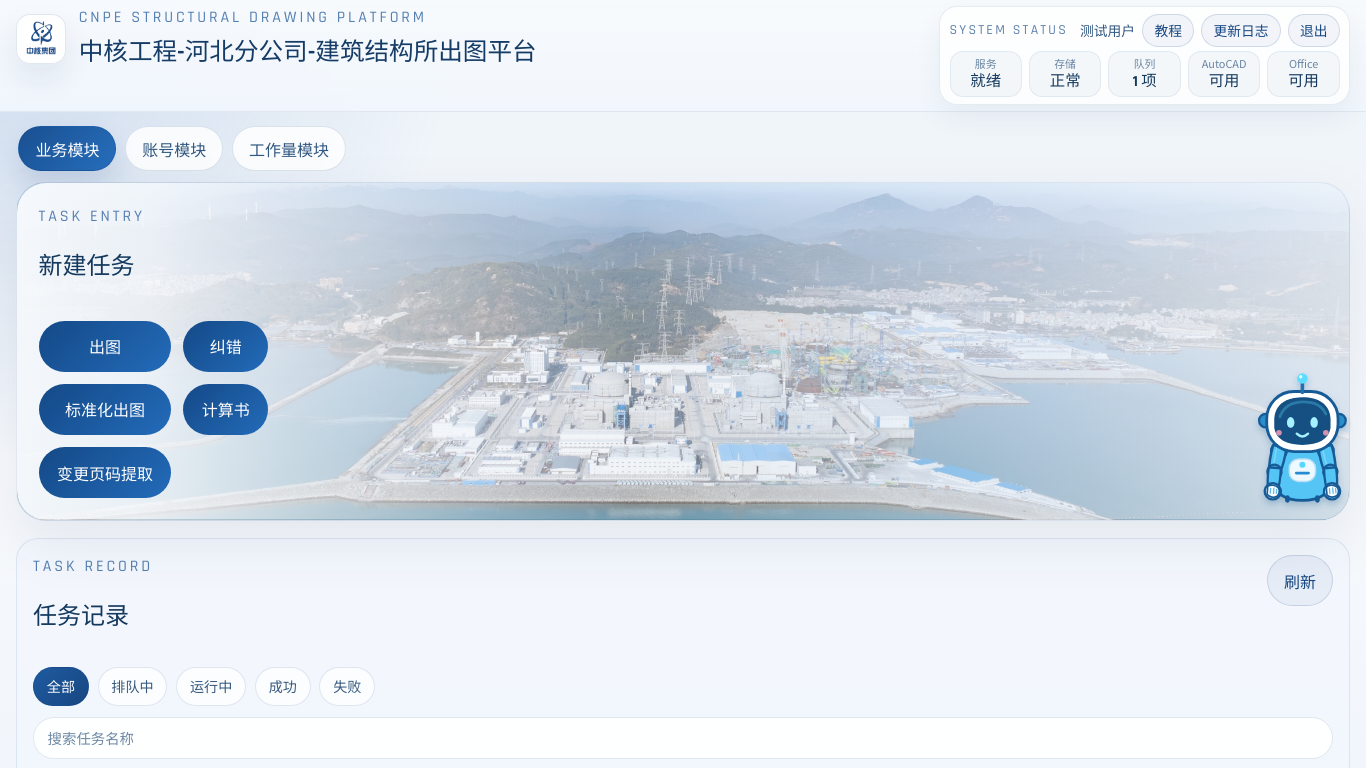
Test case: homepage shell › renders assistant Markdown while keeping user messages as literal text
Click the button named "打开 AI 助手": x=1302, y=437 [1248, 369, 1356, 505]
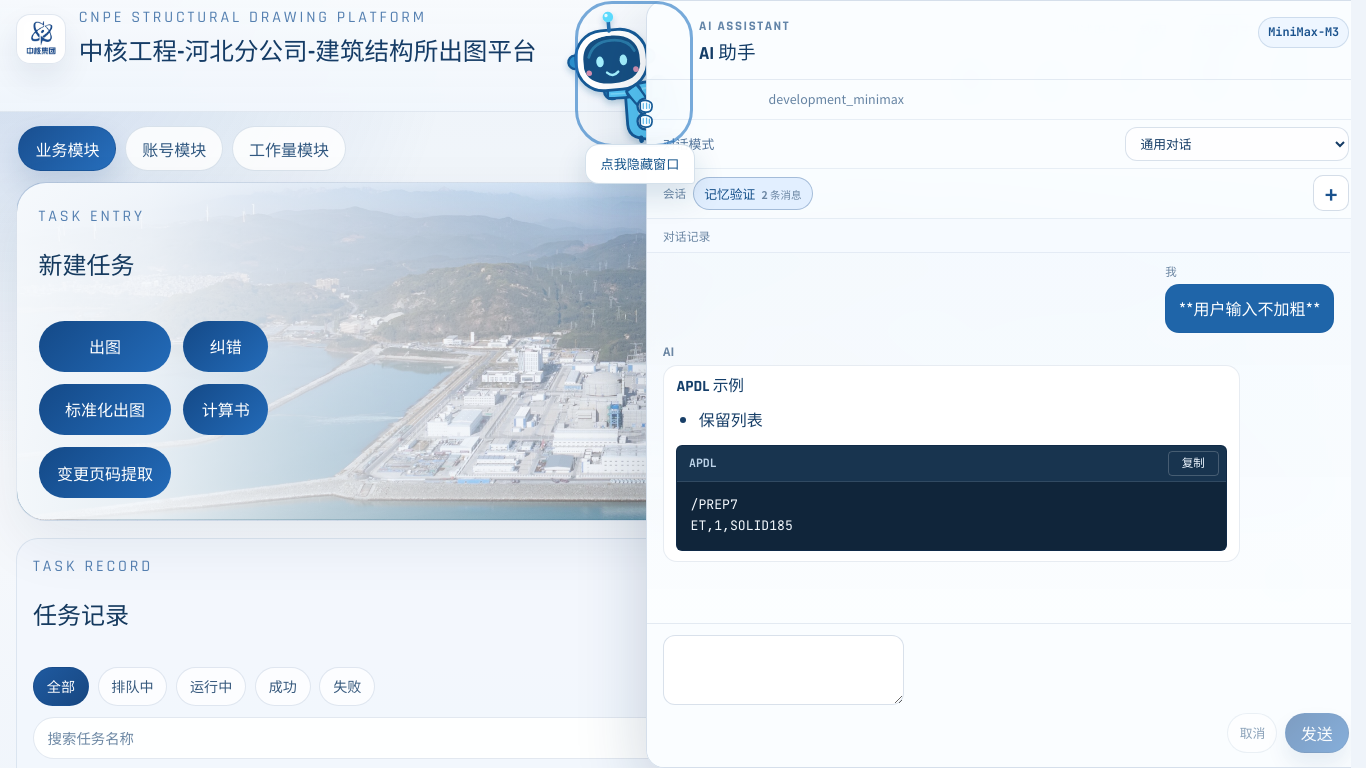
expect the heading "APDL 示例" is shown: met, box [676, 376, 744, 396]
expect the list item "保留列表" is shown: met, box [699, 407, 763, 431]
expect the button with aria-label "复制 APDL 代码" is shown: met, box [1168, 451, 1219, 476]
